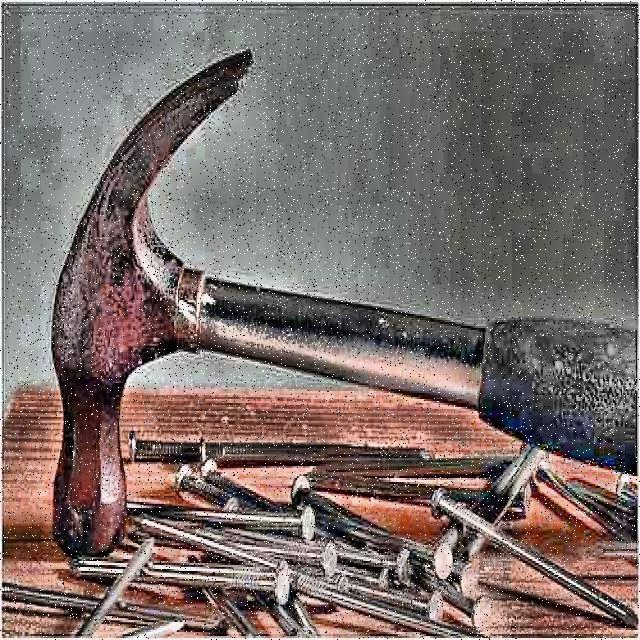hammer: (49, 45, 640, 565)
